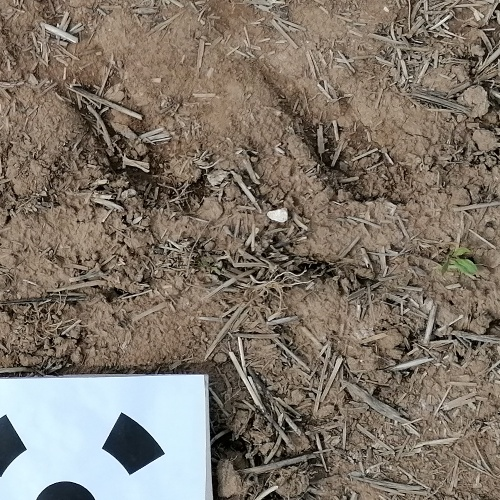beet: (437, 245, 481, 280)
